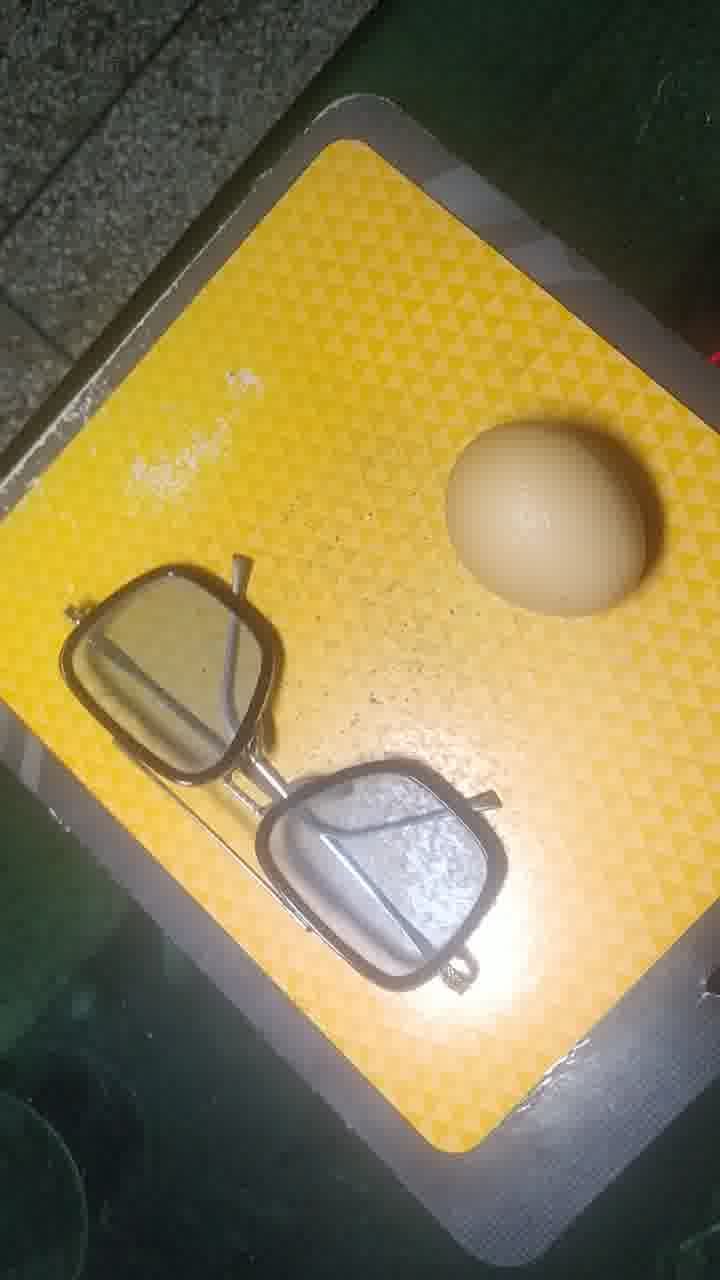egg: (451, 418, 671, 638)
sunglass: (48, 547, 506, 1013)
